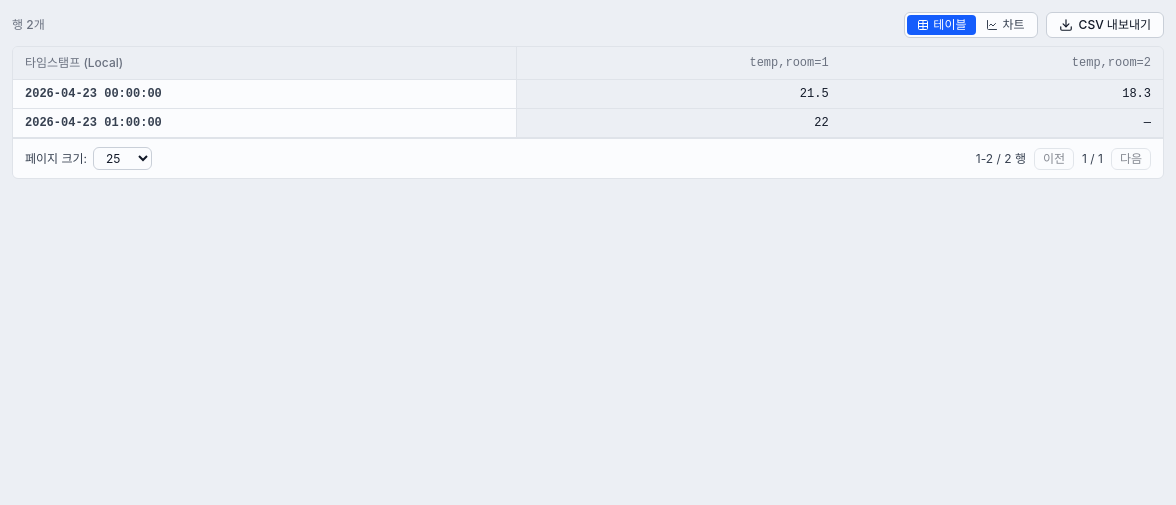
Test case: SeriesResultMatrix: 페이지네이션 › "지정값" 선택 시 대체 값 number 입력이 노출된다
Click the tab with test id "tsdb-result-view-chart". click: click(1006, 25)
box: [976,15,1035,35]
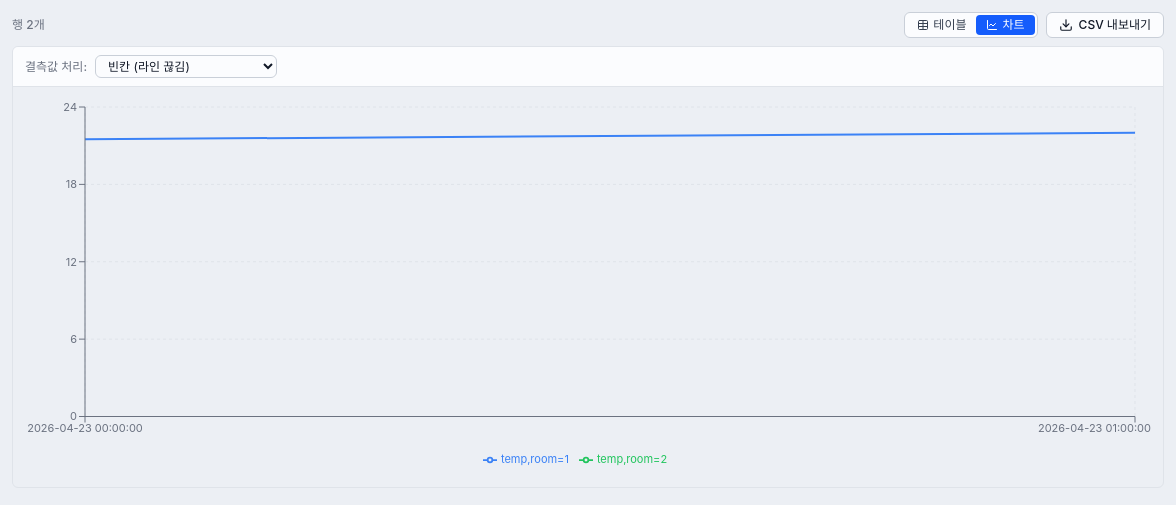
Select "지정값" in the dropdown with test id "tsdb-chart-null-mode". click: (186, 66)
box: [95,55,277,78]
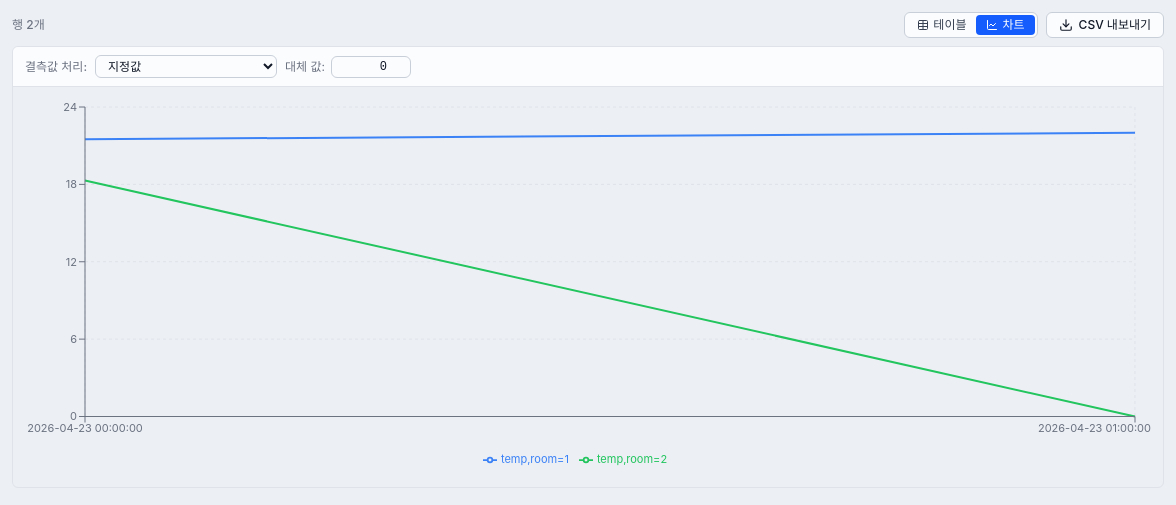
Now the number field with test id "tsdb-chart-null-fill-value" is shown, box [331,56,411,78]
